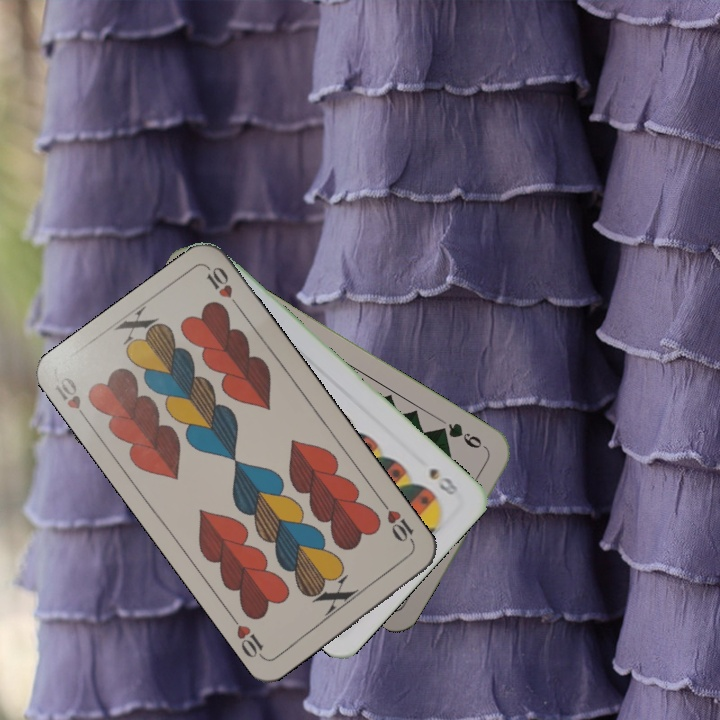G9: (433, 419, 491, 454)
H10: (51, 372, 93, 427), (377, 497, 418, 548)
S8: (425, 463, 461, 498)
